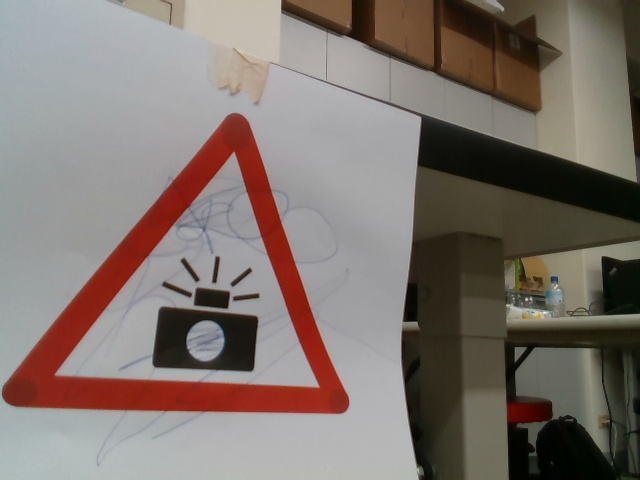camera: (6, 116, 353, 422)
